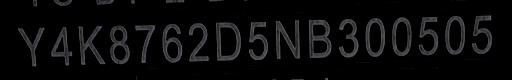letter: (14, 23, 48, 68), (74, 22, 108, 66), (272, 17, 302, 60), (184, 18, 212, 64), (213, 20, 243, 62), (48, 23, 76, 66), (414, 15, 442, 56), (470, 10, 496, 54), (106, 20, 132, 64), (132, 21, 158, 65), (306, 17, 332, 59), (336, 16, 360, 60), (246, 18, 270, 60), (160, 21, 184, 63), (443, 14, 467, 55), (389, 15, 413, 56), (363, 16, 387, 57)
